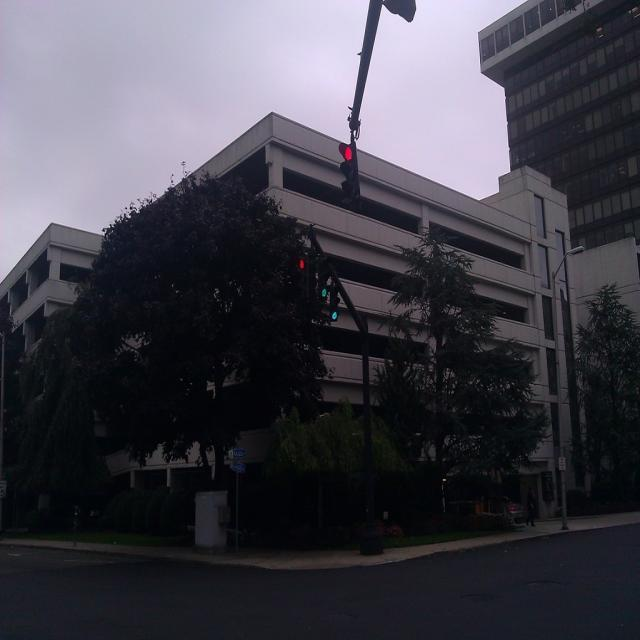traffic light: (338, 142, 362, 197), (317, 254, 335, 304), (296, 253, 311, 300)
